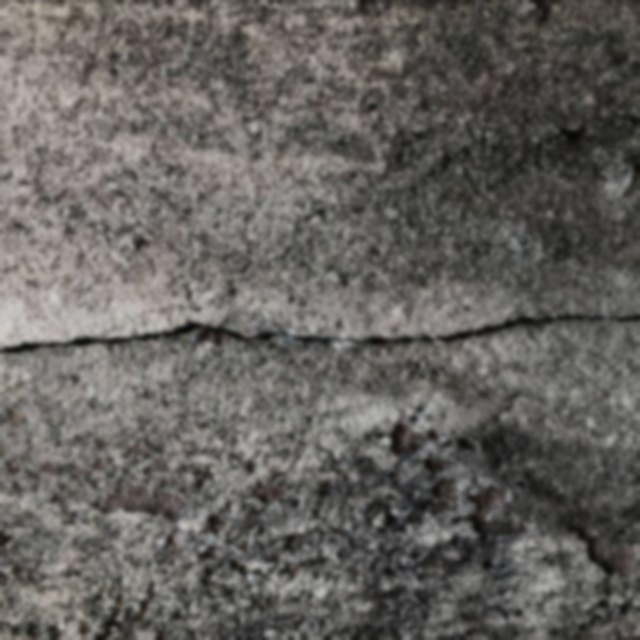SurfaceCrack: (0, 254, 638, 406)
